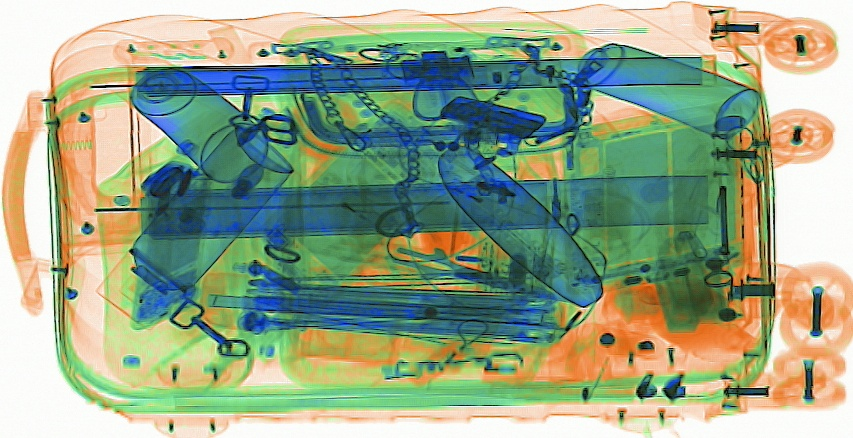pressure: (91, 125, 296, 327), (575, 40, 761, 140), (125, 65, 272, 185)
